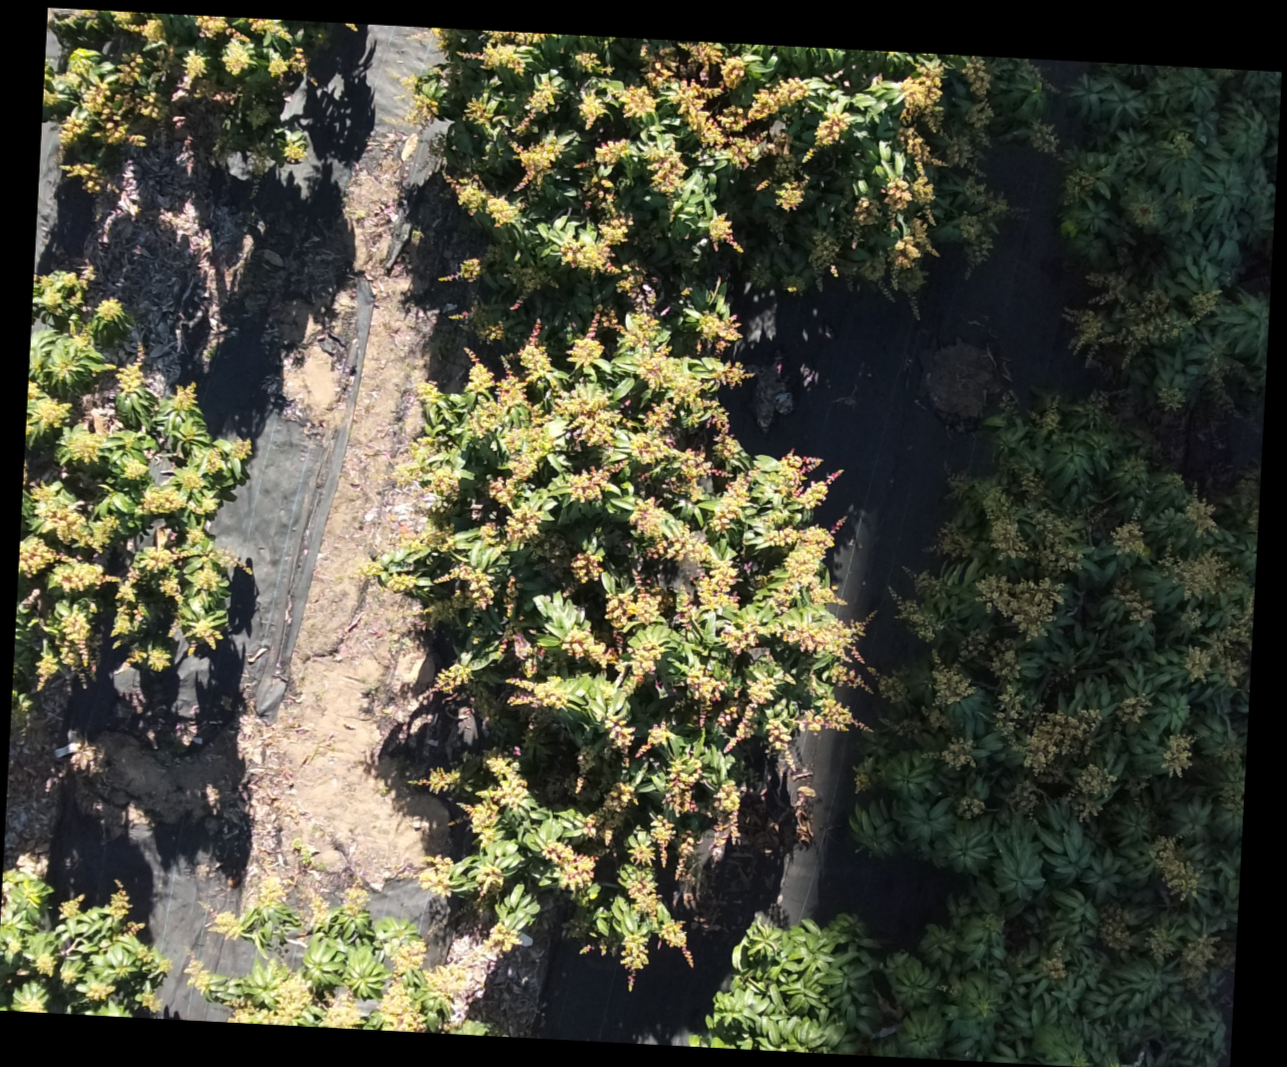flowers: (466, 338, 626, 544), (627, 345, 749, 498), (670, 75, 804, 171), (626, 499, 736, 608), (1067, 272, 1185, 367), (51, 48, 162, 148), (980, 488, 1083, 575), (616, 864, 694, 964), (25, 382, 109, 465), (883, 125, 939, 248), (720, 610, 865, 658), (772, 525, 843, 609), (29, 482, 118, 550), (227, 961, 321, 1024), (464, 754, 528, 845), (974, 575, 1063, 638), (560, 629, 663, 681), (1024, 707, 1100, 776), (18, 537, 114, 591), (764, 697, 853, 753), (37, 604, 94, 690), (714, 672, 774, 751), (377, 938, 428, 1030), (958, 184, 1006, 273), (559, 214, 631, 272), (1208, 592, 1251, 686), (1159, 550, 1240, 598), (459, 30, 546, 74), (446, 175, 520, 226), (576, 137, 626, 208), (775, 453, 838, 510), (1148, 836, 1199, 900), (172, 50, 236, 102), (586, 780, 635, 846), (900, 58, 943, 132), (958, 628, 1019, 678), (696, 287, 741, 353), (682, 41, 745, 88), (540, 840, 595, 890), (513, 136, 561, 190), (1068, 763, 1114, 820), (140, 484, 220, 516), (438, 563, 494, 608), (605, 584, 660, 629), (112, 568, 148, 636), (803, 110, 849, 163), (567, 460, 624, 501), (700, 778, 739, 840), (890, 591, 937, 641), (961, 55, 993, 127), (711, 474, 749, 532), (516, 76, 555, 133), (1111, 575, 1154, 624), (894, 216, 934, 268), (929, 659, 974, 705), (1179, 934, 1218, 988), (398, 75, 437, 126), (506, 675, 569, 707), (463, 90, 508, 134), (357, 559, 416, 592), (646, 146, 686, 194), (503, 260, 554, 297), (896, 127, 944, 166), (893, 706, 950, 737), (1234, 466, 1258, 533), (110, 11, 165, 41), (619, 932, 647, 990), (320, 991, 363, 1027), (1097, 903, 1130, 950), (410, 766, 460, 794), (707, 214, 743, 252), (567, 329, 603, 368), (649, 814, 674, 867), (613, 86, 655, 118), (183, 617, 221, 652), (809, 232, 838, 278), (115, 345, 144, 391), (935, 522, 973, 557), (636, 720, 671, 757), (1161, 733, 1192, 775), (482, 922, 520, 956), (1183, 496, 1216, 535), (434, 661, 471, 694), (719, 622, 758, 654), (267, 46, 306, 77), (603, 716, 634, 755), (1111, 521, 1147, 553), (439, 256, 481, 283), (124, 646, 171, 670), (11, 980, 47, 1011), (674, 834, 698, 881), (569, 550, 603, 582), (940, 737, 974, 769), (220, 38, 250, 75), (195, 15, 241, 38), (1187, 289, 1219, 322), (1144, 925, 1175, 959), (475, 863, 503, 899), (578, 91, 606, 128), (183, 956, 210, 994), (1028, 121, 1058, 154), (829, 663, 868, 689), (877, 672, 908, 703), (1043, 939, 1067, 979), (206, 910, 241, 938), (714, 361, 753, 386), (945, 134, 973, 167), (247, 142, 275, 175), (417, 525, 454, 550), (1184, 646, 1210, 681), (1064, 168, 1095, 197), (1218, 779, 1243, 814), (245, 18, 290, 37), (1117, 694, 1148, 722), (107, 882, 130, 918), (575, 746, 593, 793), (342, 882, 368, 915), (573, 51, 613, 73), (1036, 397, 1059, 432), (117, 52, 142, 84), (309, 894, 330, 932), (853, 197, 880, 226), (1156, 386, 1185, 411), (170, 382, 196, 409), (955, 795, 984, 819), (157, 573, 182, 601), (59, 892, 83, 918), (96, 297, 125, 320), (1129, 201, 1154, 226), (177, 135, 193, 173), (1169, 190, 1197, 212), (122, 458, 148, 480), (84, 981, 114, 1001), (627, 842, 654, 864), (203, 446, 224, 473), (503, 575, 517, 616), (1216, 740, 1242, 761), (1179, 607, 1201, 631), (1126, 775, 1150, 797), (138, 991, 161, 1012), (481, 320, 503, 341), (34, 952, 55, 975), (229, 438, 251, 459), (854, 766, 870, 792), (429, 134, 444, 155), (1247, 505, 1257, 533), (1213, 68, 1237, 79), (343, 22, 357, 30)
